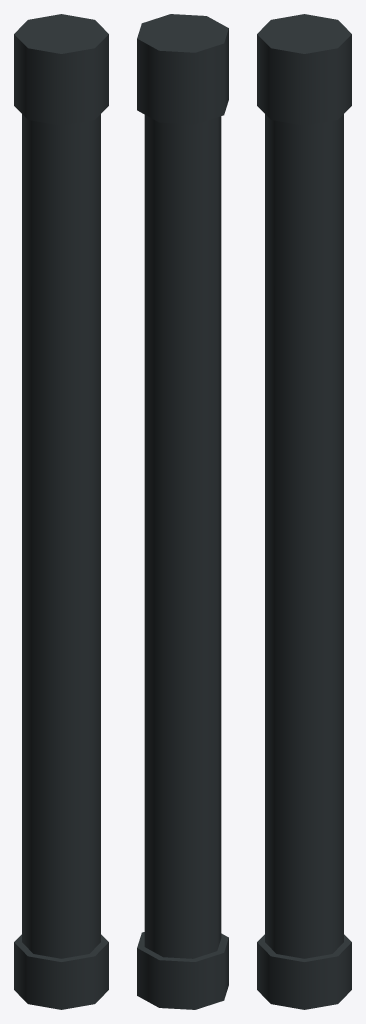
Rendered from SW_PROP_SignalLight_SupportPipe_01.fbx.
3 renders of one model, left to right at view 1: azimuth 90°, elevation 25°; view 2: azimuth 150°, elevation 25°; view 3: azimuth 270°, elevation 25°, orthographic.
Parts seen in each view (by area): view 1: SW_PROP_SignalLight_SupportPipe_01; view 2: SW_PROP_SignalLight_SupportPipe_01; view 3: SW_PROP_SignalLight_SupportPipe_01.
Boxes of the visible parts, x1,y1,x2,y2 form: SW_PROP_SignalLight_SupportPipe_01: (14, 14, 108, 1009); SW_PROP_SignalLight_SupportPipe_01: (137, 14, 228, 1009); SW_PROP_SignalLight_SupportPipe_01: (257, 14, 351, 1009).
Bounding box in the file's own units: 0.09 × 1 × 0.09.
